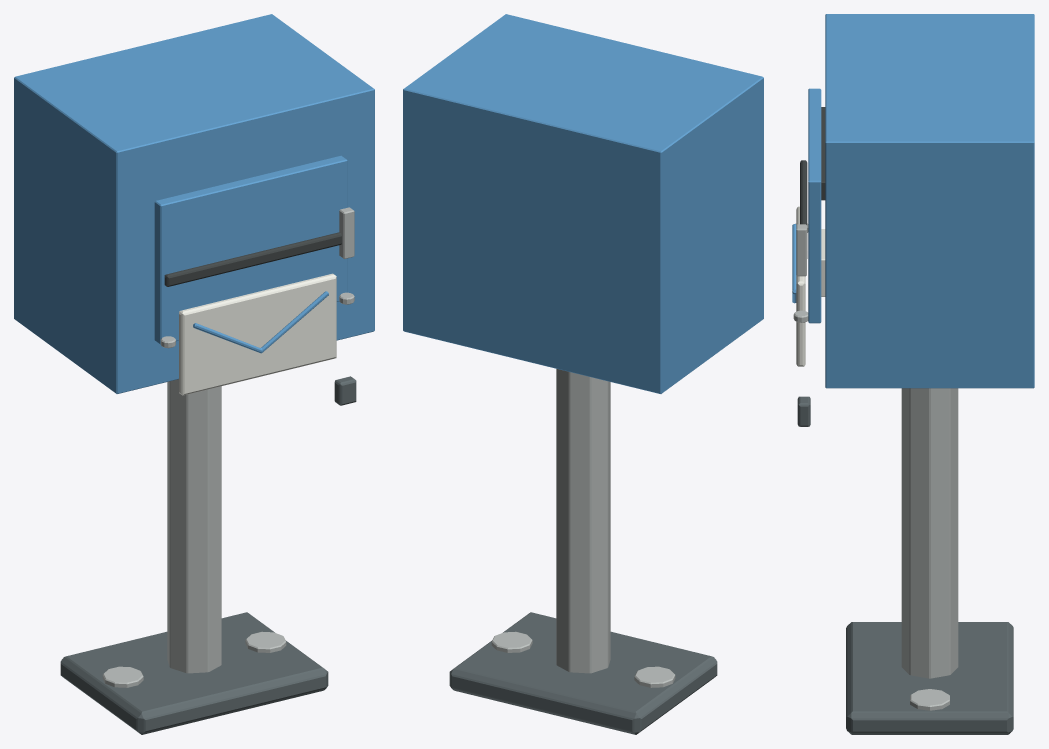
Rendered from Mailbox.fbx.
3 views of the same model, side by side, from view 1: azimuth 30°, elevation 25°; view 2: azimuth 150°, elevation 25°; view 3: azimuth 270°, elevation 25° (orthographic).
Visible parts, largest first — view 1: Mailbox__LPCXFER; view 2: Mailbox__LPCXFER; view 3: Mailbox__LPCXFER.
Boxes of the visible parts, x1=… form: Mailbox__LPCXFER: x1=14, y1=14, x2=374, y2=734; Mailbox__LPCXFER: x1=403, y1=14, x2=763, y2=734; Mailbox__LPCXFER: x1=792, y1=14, x2=1034, y2=734.
Bounding box in the file's own units: 58 × 129 × 46.29.
